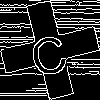C: (25, 25, 71, 78)
